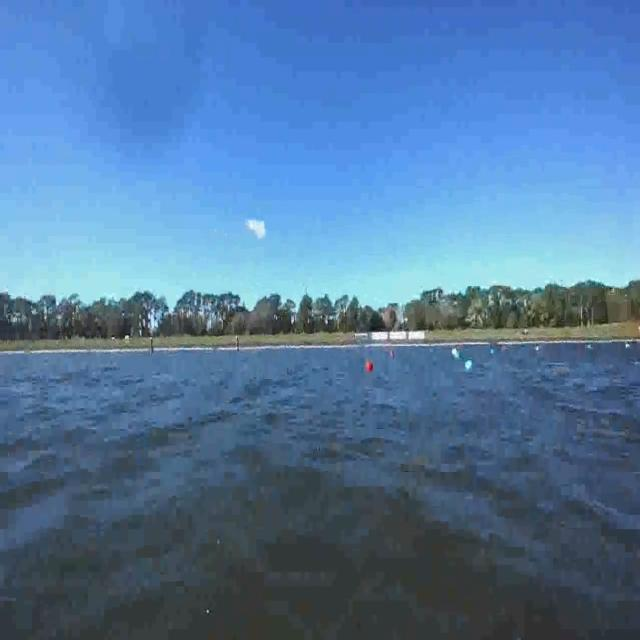green-buoy: (463, 357, 474, 373), (453, 352, 461, 361)
red-buoy: (366, 360, 372, 372)
